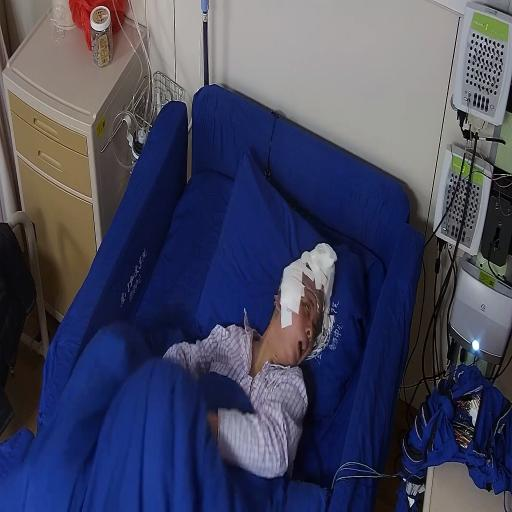Seizure: (270, 266, 327, 368)
